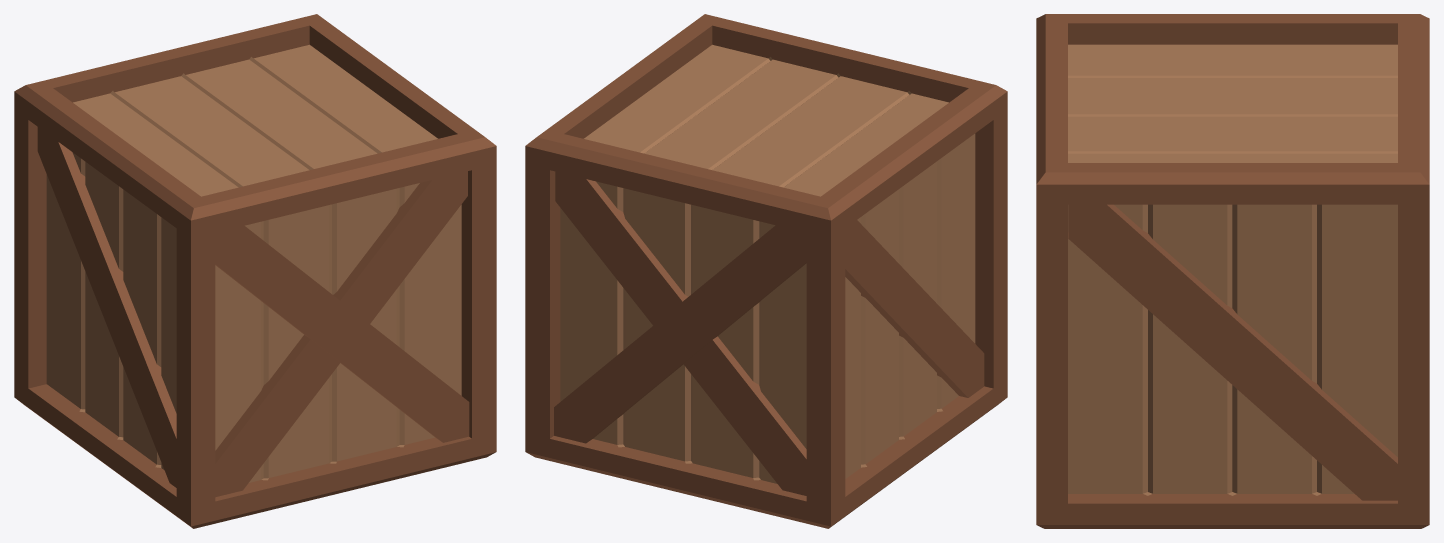
The model's file is Crate.fbx.
3 views of the same model, side by side, from view 1: azimuth 30°, elevation 25°; view 2: azimuth 150°, elevation 25°; view 3: azimuth 270°, elevation 25° (orthographic). The views are drawn at different scales.
Visible parts, largest first — view 1: Cube.001; view 2: Cube.001; view 3: Cube.001.
Part boxes in pixels (x1=…): Cube.001: x1=14, y1=14, x2=496, y2=528; Cube.001: x1=525, y1=14, x2=1007, y2=528; Cube.001: x1=1036, y1=14, x2=1429, y2=528.
Bounding box in the file's own units: 19.61 × 19.61 × 19.61.
